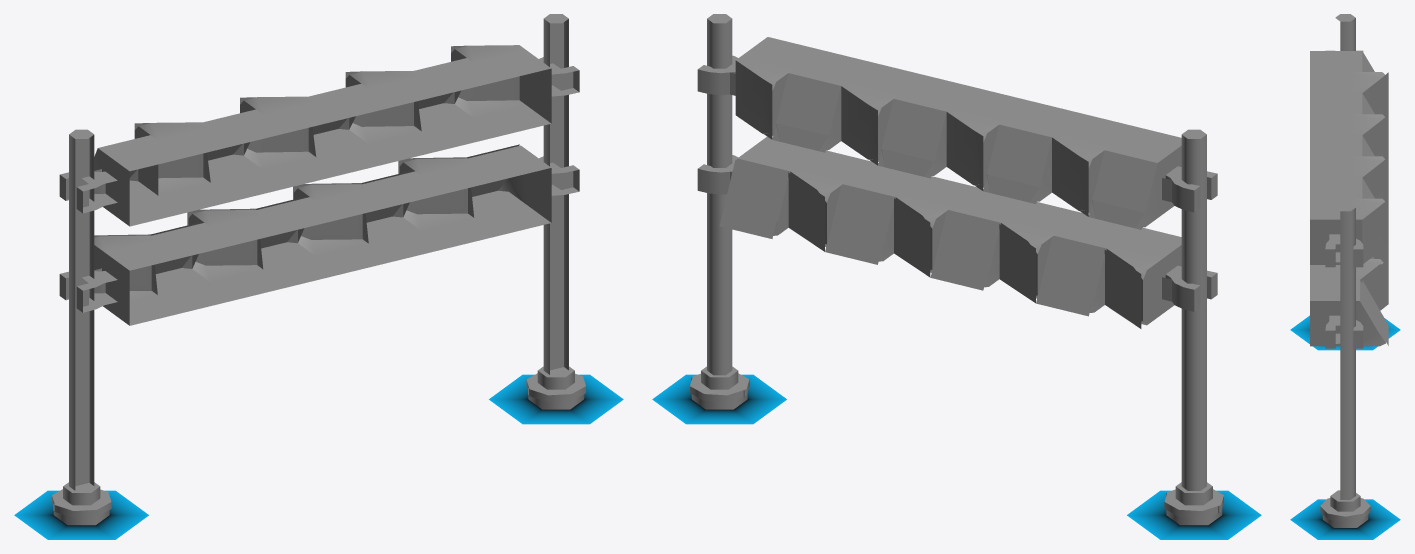
File: Standard_Barrier_Low.fbx
3 views of the same model, side by side, from view 1: azimuth 30°, elevation 25°; view 2: azimuth 150°, elevation 25°; view 3: azimuth 270°, elevation 25° (orthographic). The views are drawn at different scales.
Visible parts, largest first — view 1: Barrier_Low, Barrier_Low_LOD, Barrier_Low_Shadows; view 2: Barrier_Low, Barrier_Low_LOD, Barrier_Low_Shadows; view 3: Barrier_Low, Barrier_Low_Shadows, Barrier_Low_LOD.
Part boxes in pixels (x1,y1,x2,y2): Barrier_Low: [52, 14, 585, 525]; Barrier_Low_LOD: [53, 22, 581, 510]; Barrier_Low_Shadows: [14, 374, 623, 539]; Barrier_Low: [690, 14, 1223, 525]; Barrier_Low_LOD: [691, 72, 1219, 512]; Barrier_Low_Shadows: [652, 374, 1261, 539]; Barrier_Low: [1310, 14, 1388, 527]; Barrier_Low_Shadows: [1290, 315, 1400, 539]; Barrier_Low_LOD: [1362, 72, 1388, 345].
Size of the model in its own units: 2.7 by 1.73 by 0.5498.
